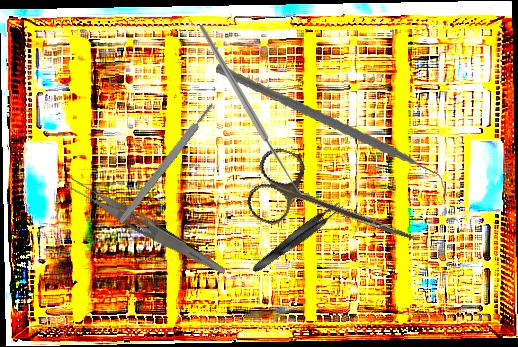Chopper: (215, 42, 448, 221)
Dressing Forceps: (61, 173, 231, 278)
Hook Surgical: (200, 25, 309, 195)
Iris Scissors: (242, 143, 432, 272)
Scalpel Handle: (116, 101, 217, 226)
Tissue Forceps: (248, 198, 346, 277)
